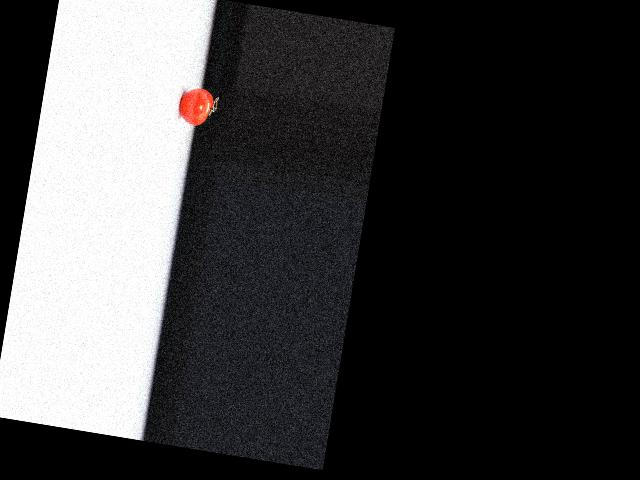tomato: (176, 85, 215, 128)
